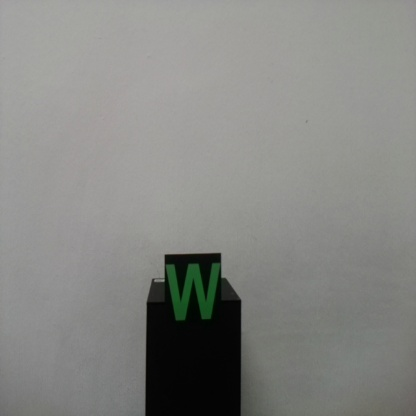id_12: (165, 255, 222, 336)
